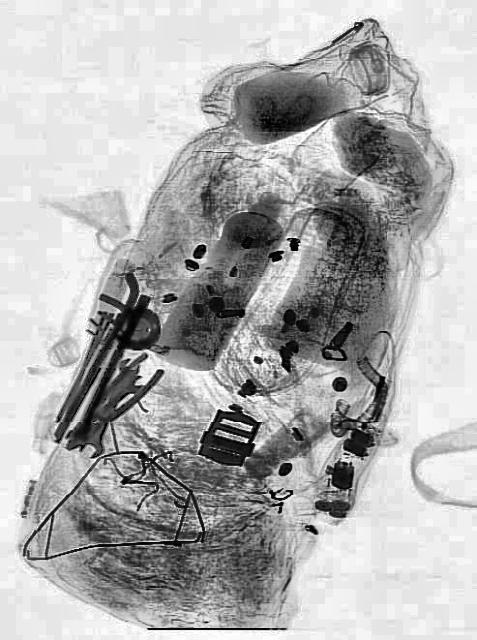Wrench: (74, 354, 142, 464)
